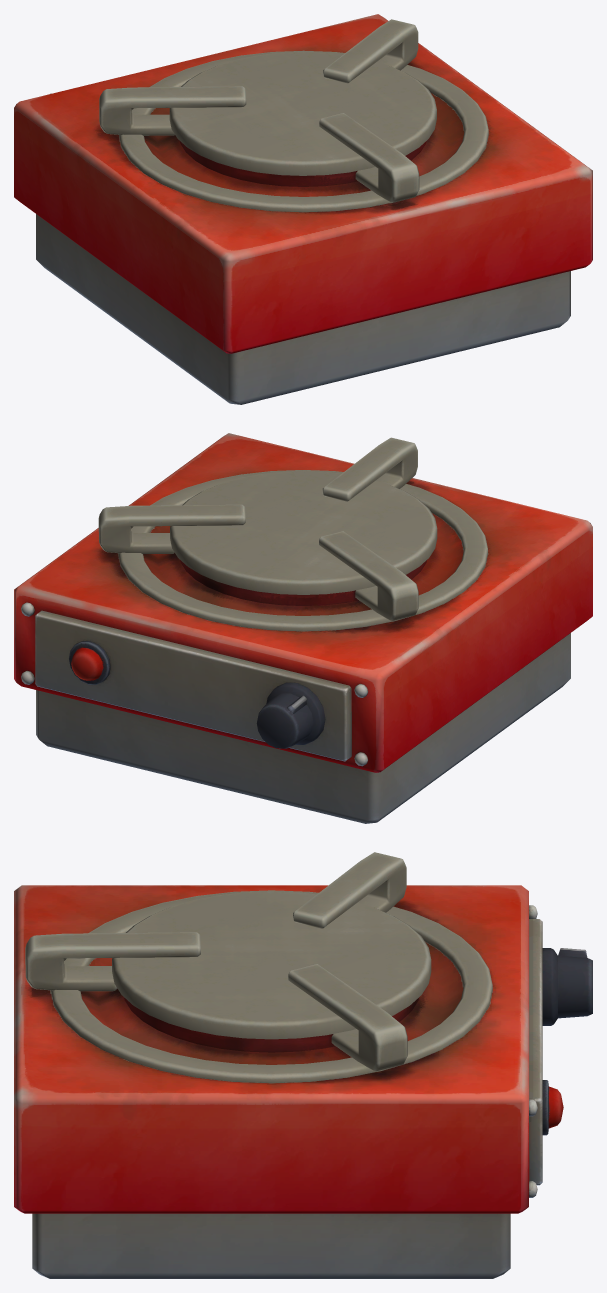
The model's file is m_sk_cooker_01.fbx.
The picture shows the model from 3 angles, top to bottom: view 1: azimuth 30°, elevation 25°; view 2: azimuth 150°, elevation 25°; view 3: azimuth 270°, elevation 25°; orthographic projection. The views are drawn at different scales.
Parts seen in each view (by area): view 1: m_sk_cooker_01_0; view 2: m_sk_cooker_01_0; view 3: m_sk_cooker_01_0.
Boxes of the visible parts, bbox=[...] form: m_sk_cooker_01_0: bbox=[14, 14, 592, 404]; m_sk_cooker_01_0: bbox=[14, 433, 592, 823]; m_sk_cooker_01_0: bbox=[14, 852, 592, 1278].
Size of the model in its own units: 1.2 by 0.63 by 1.37.
